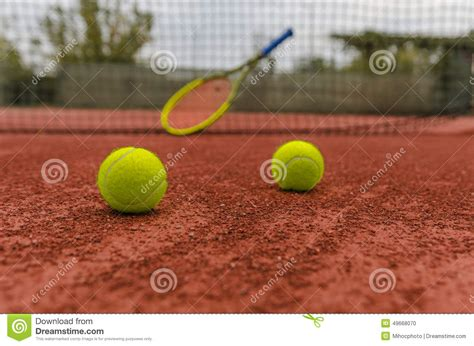tennis_ball: (98, 146, 168, 214), (271, 141, 324, 191)
